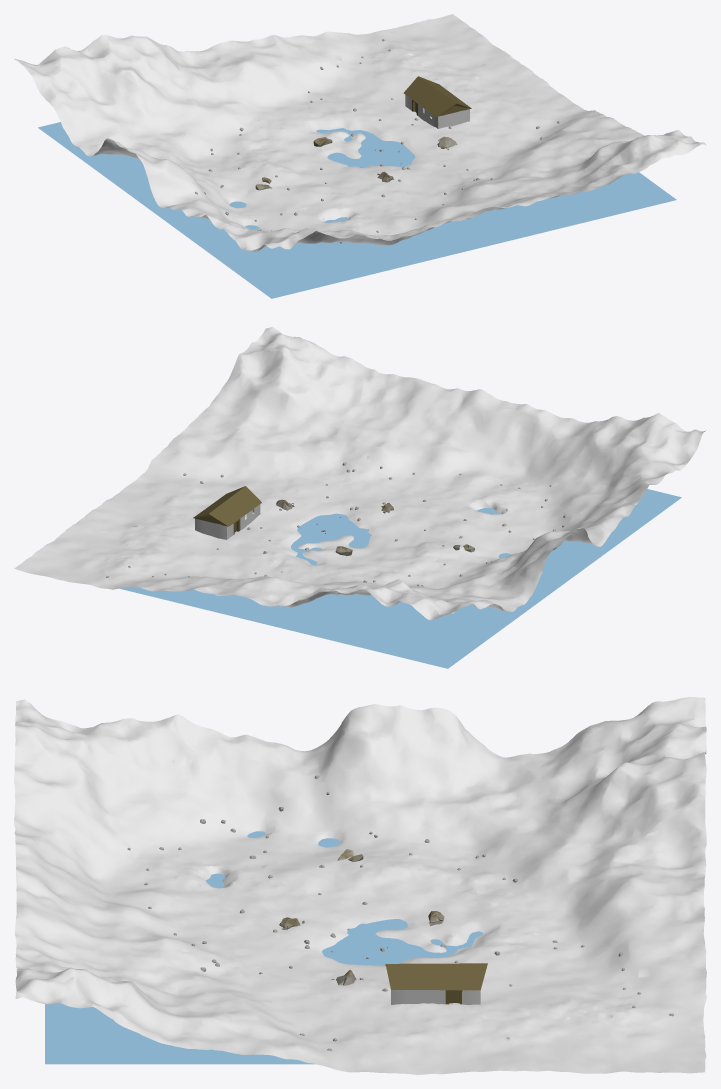
File: testmap-height.fbx
3 renders of one model, top to bottom at view 1: azimuth 30°, elevation 25°; view 2: azimuth 150°, elevation 25°; view 3: azimuth 270°, elevation 25°, orthographic. The views are drawn at different scales.
Parts seen in each view (by area): view 1: ground, water, rocks, roof; view 2: ground, water, rocks, roof; view 3: ground, water, rocks, roof.
Part boxes in pixels (x1,y1,x2,y2): ground: (14,14,706,251); water: (38,122,676,298); rocks: (195,39,559,243); roof: (403,76,471,117); ground: (14,327,705,620); water: (119,489,681,668); rocks: (106,462,566,586); roof: (193,486,261,526); ground: (14,697,706,1074); water: (45,831,482,1064); rocks: (127,775,673,1050); roof: (385,963,487,990).
Bounding box in the file's own units: 64.41 × 10.67 × 64.31.
Materials: 3 (1 with a texture image).
